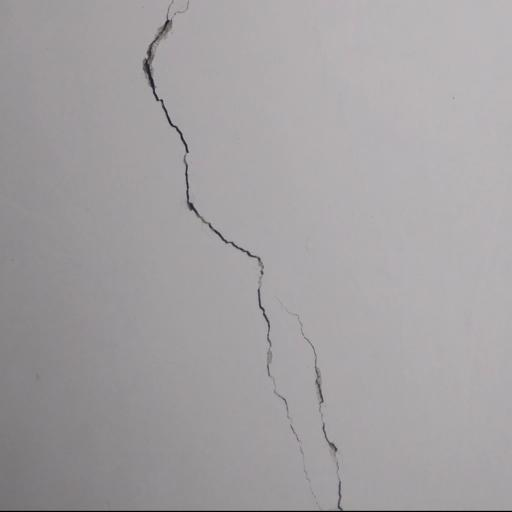major_crack: (135, 0, 354, 512)
